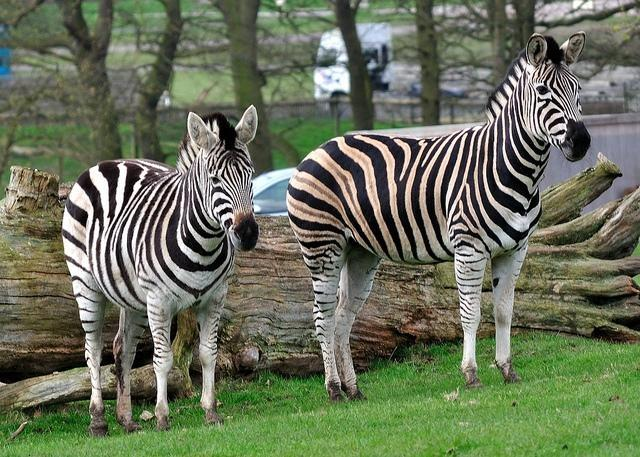truck: (312, 24, 470, 120)
